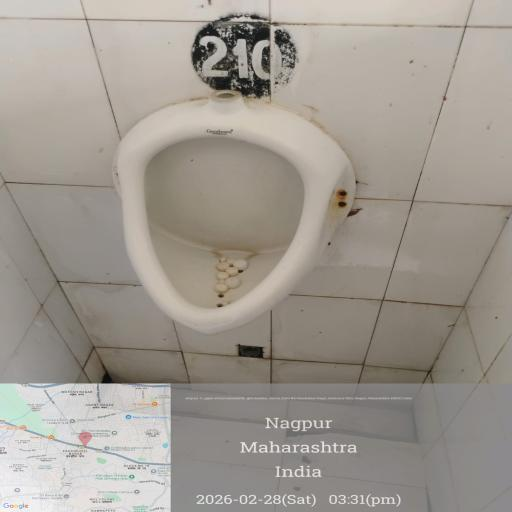clean_floor: (0, 0, 505, 109), (369, 126, 506, 360)
partial_dirty_floor: (6, 273, 471, 388)
partial_dirty_urinal: (111, 127, 338, 321)
